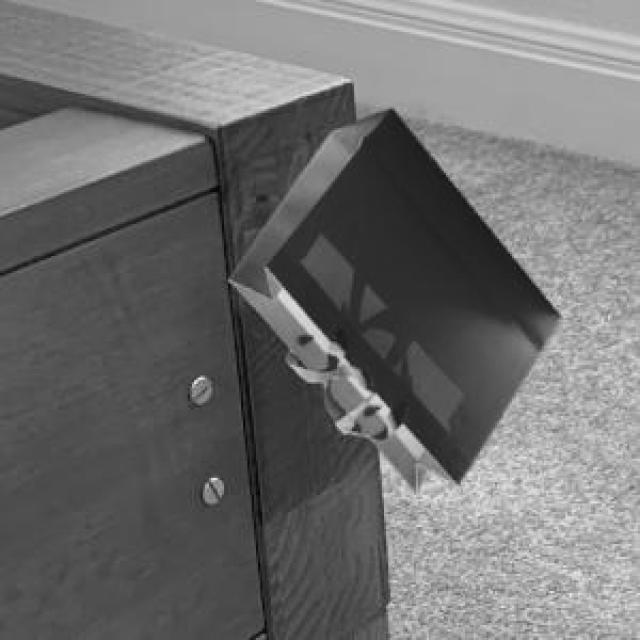paper: (224, 105, 557, 489)
